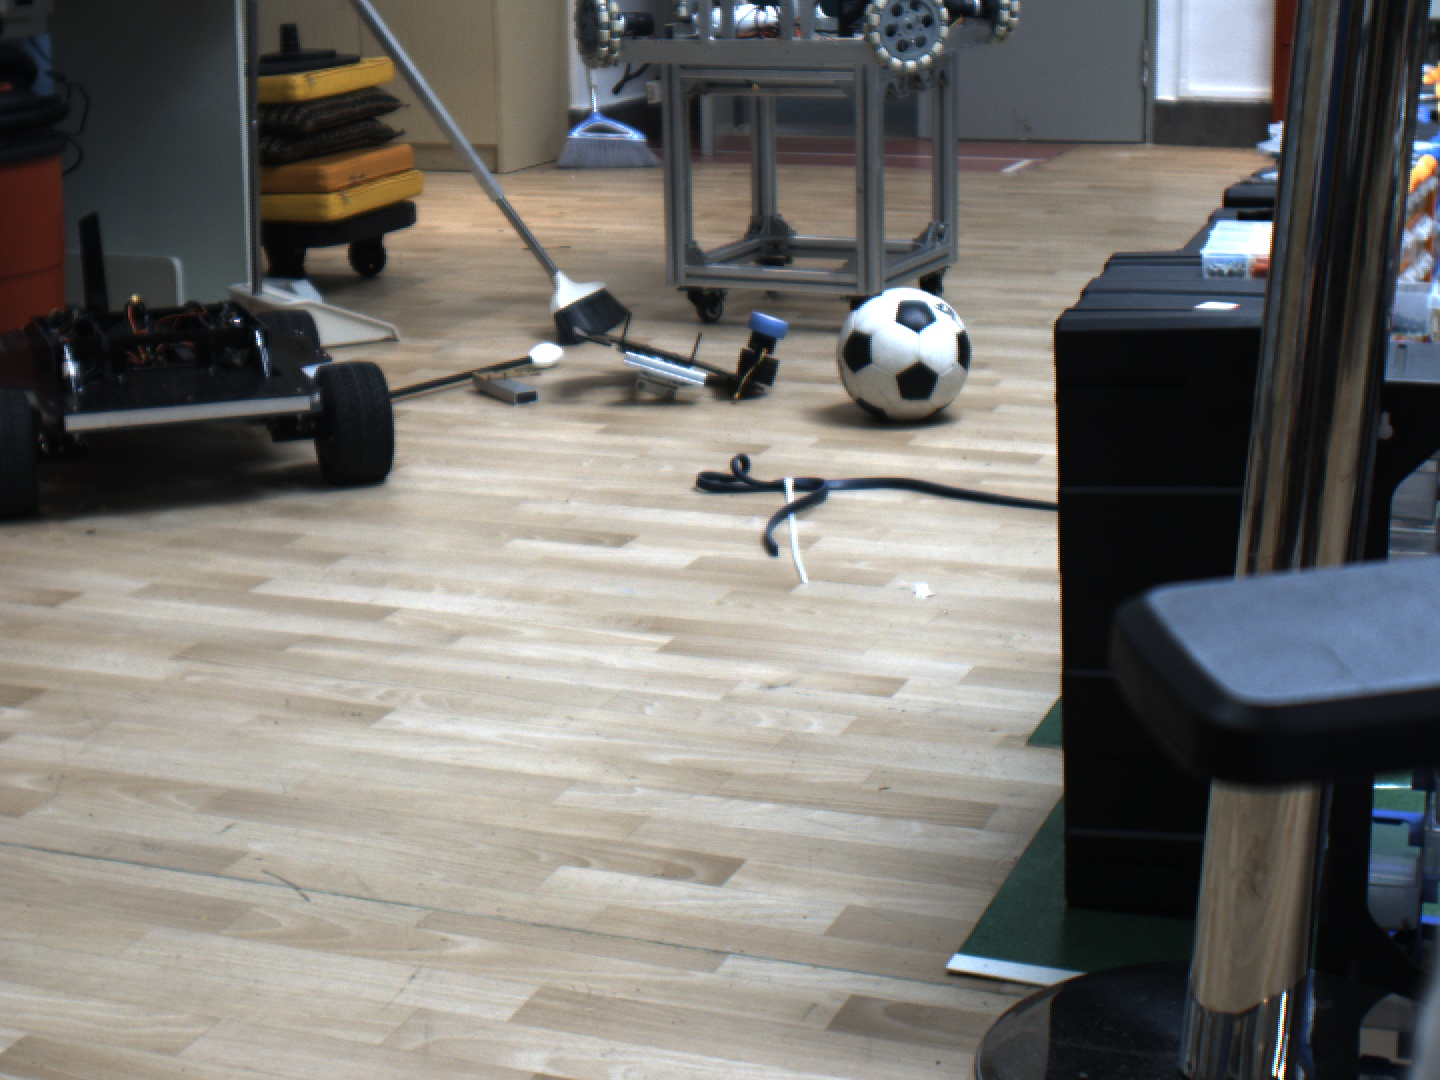ball: (808, 262, 993, 441)
